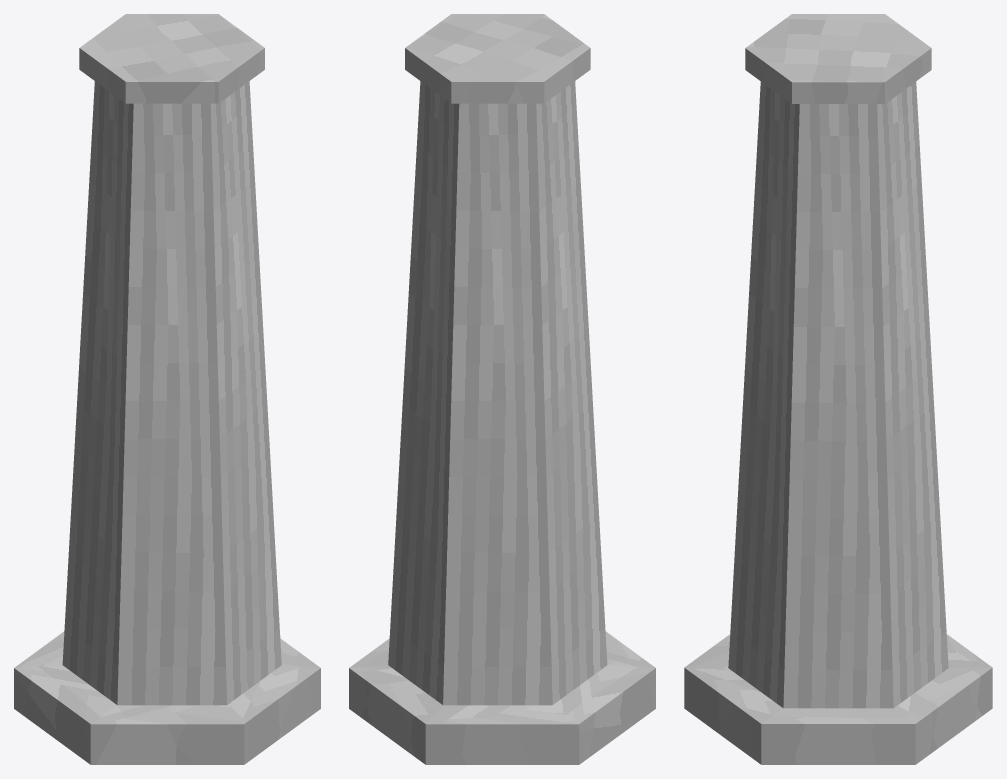
File: column-1.fbx
3 views of the same model, side by side, from view 1: azimuth 30°, elevation 25°; view 2: azimuth 150°, elevation 25°; view 3: azimuth 270°, elevation 25° (orthographic).
Parts seen in each view (by area): view 1: Cylinder; view 2: Cylinder; view 3: Cylinder.
Boxes of the visible parts, <box> form: Cylinder: <box>14,14,320,764</box>; Cylinder: <box>349,14,655,764</box>; Cylinder: <box>684,14,992,764</box>.
Size of the model in its own units: 242 by 664 by 280.
1 material, 1 textured.
